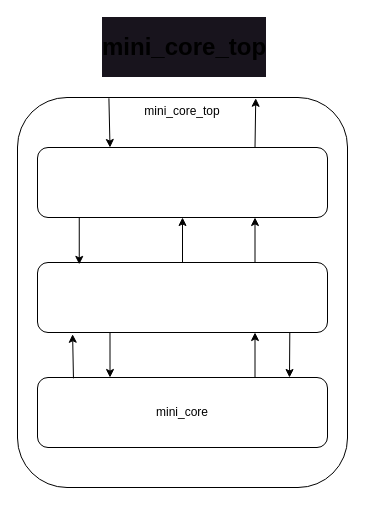
Image size: 365x505. Some labels were removed from this diagram. Here are the shapes that lost their labels. From the top down, the box of each, then its label:
(36, 146, 328, 218): io_ctrl
(36, 262, 328, 332): mem_wrap
